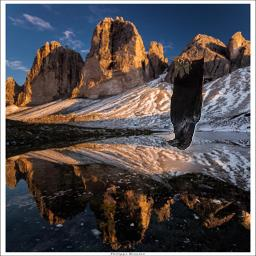Crow: (166, 56, 204, 150)
